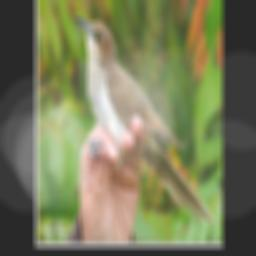Cuckoo: (75, 13, 217, 225)
